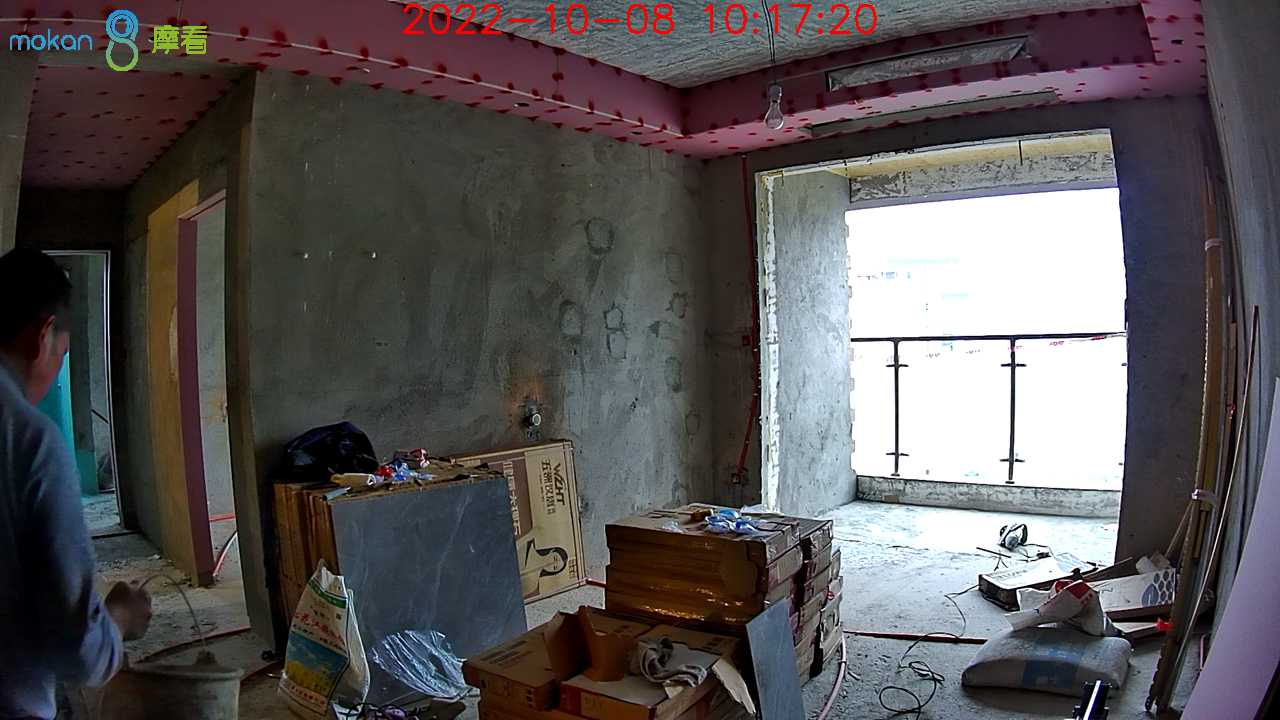people: (1, 247, 151, 719)
window: (845, 184, 1128, 497)
